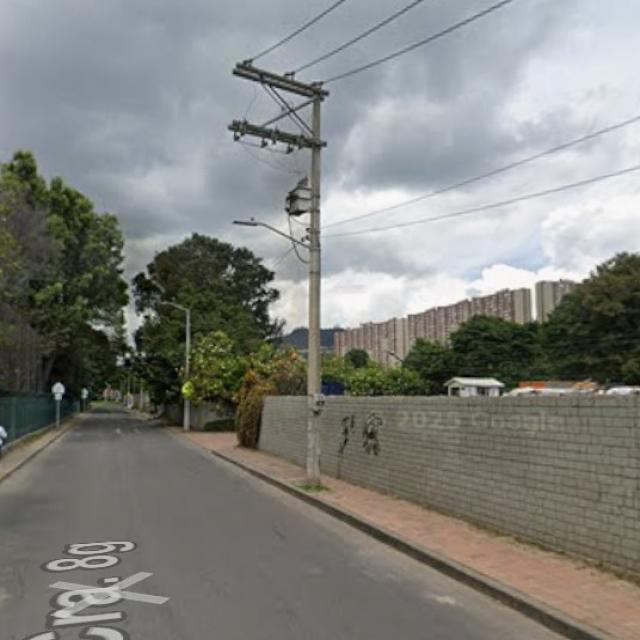Fachada: (334, 281, 574, 363)
Poste: (228, 62, 327, 486)
